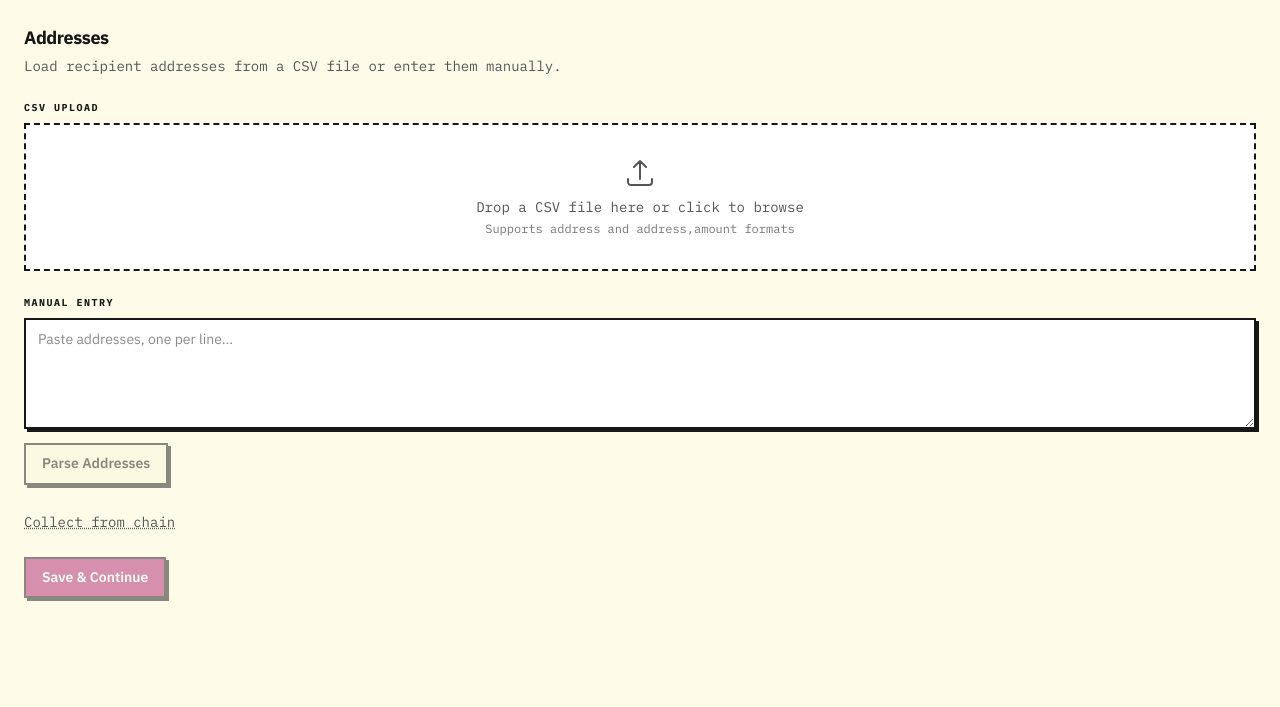
AddressesStep › resets source params when switching source type
Click the button "Collect from chain" at (100, 522), box [24,512,175,532]
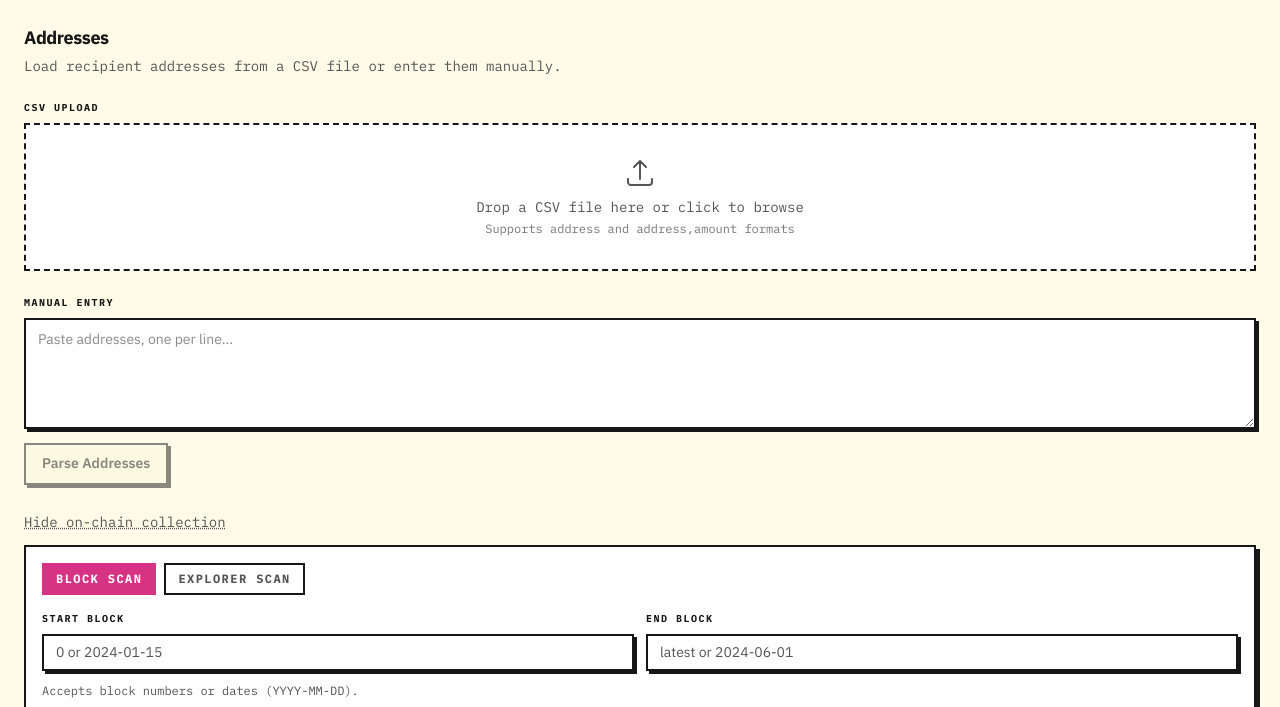
// Switch to explorer-scan and enter a contract address
Click the button "Explorer Scan" at (235, 578), box [164,562,305,594]
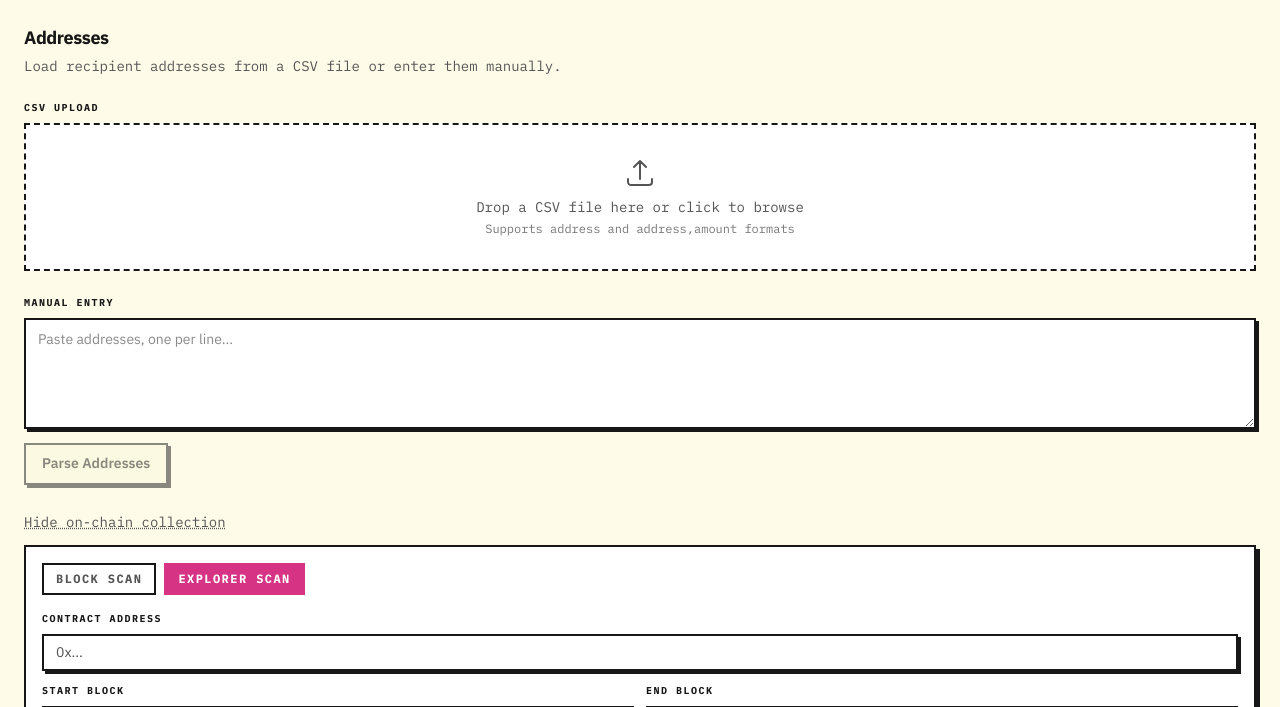
Type "0xabc" into the field with placeholder "0x..." at (640, 652), box [42,634,1238,671]
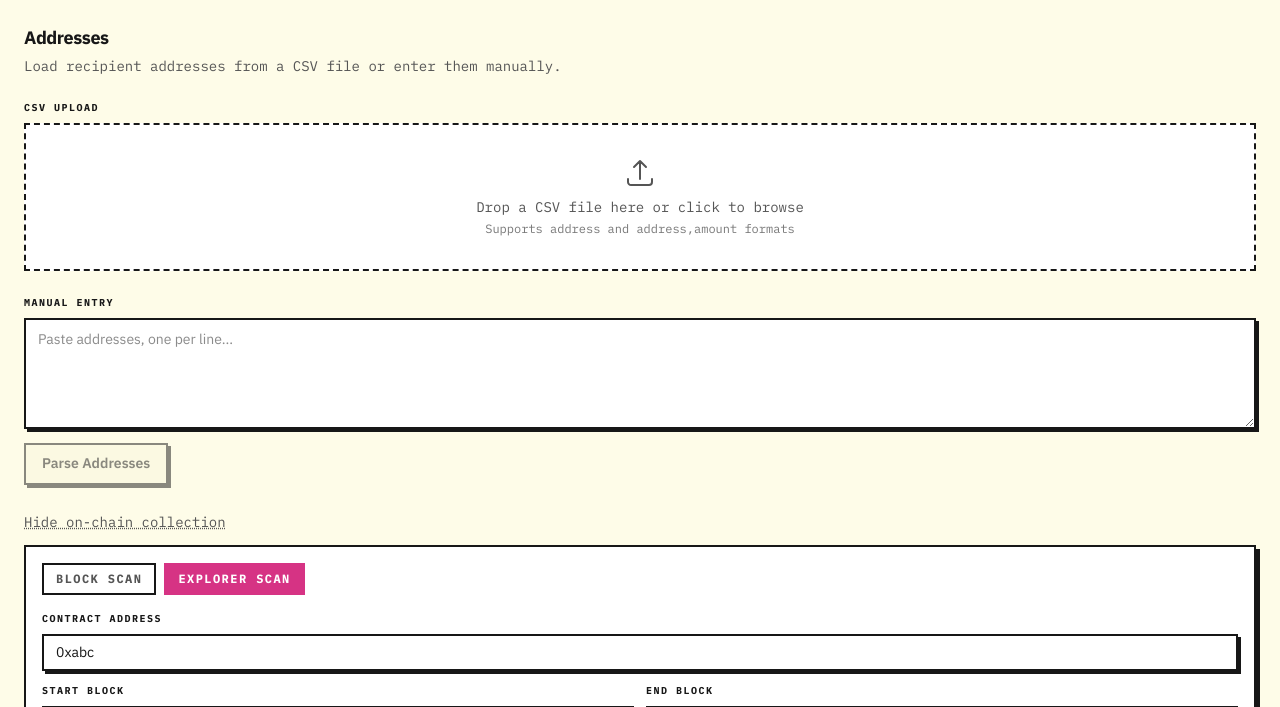
// Switch back to block-scan — params should be reset
Click the button "Block Scan" at (99, 578), box [42,562,156,594]
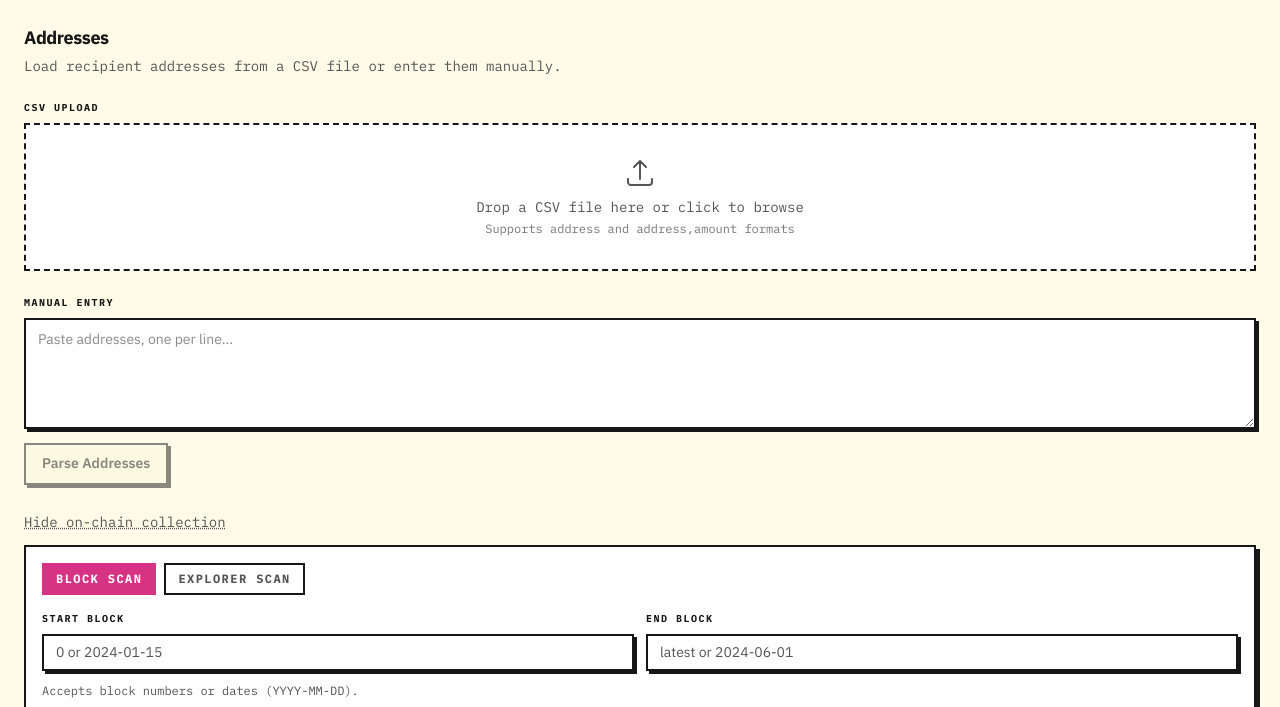
Now the field with placeholder "0x..." is gone
